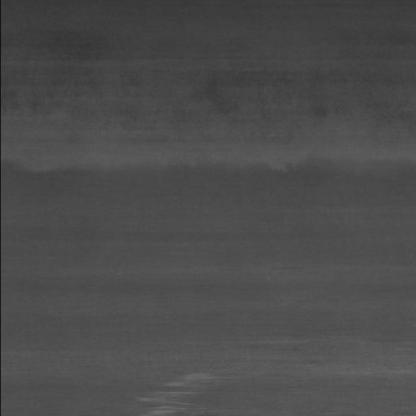silk_spot: (119, 368, 242, 416)
